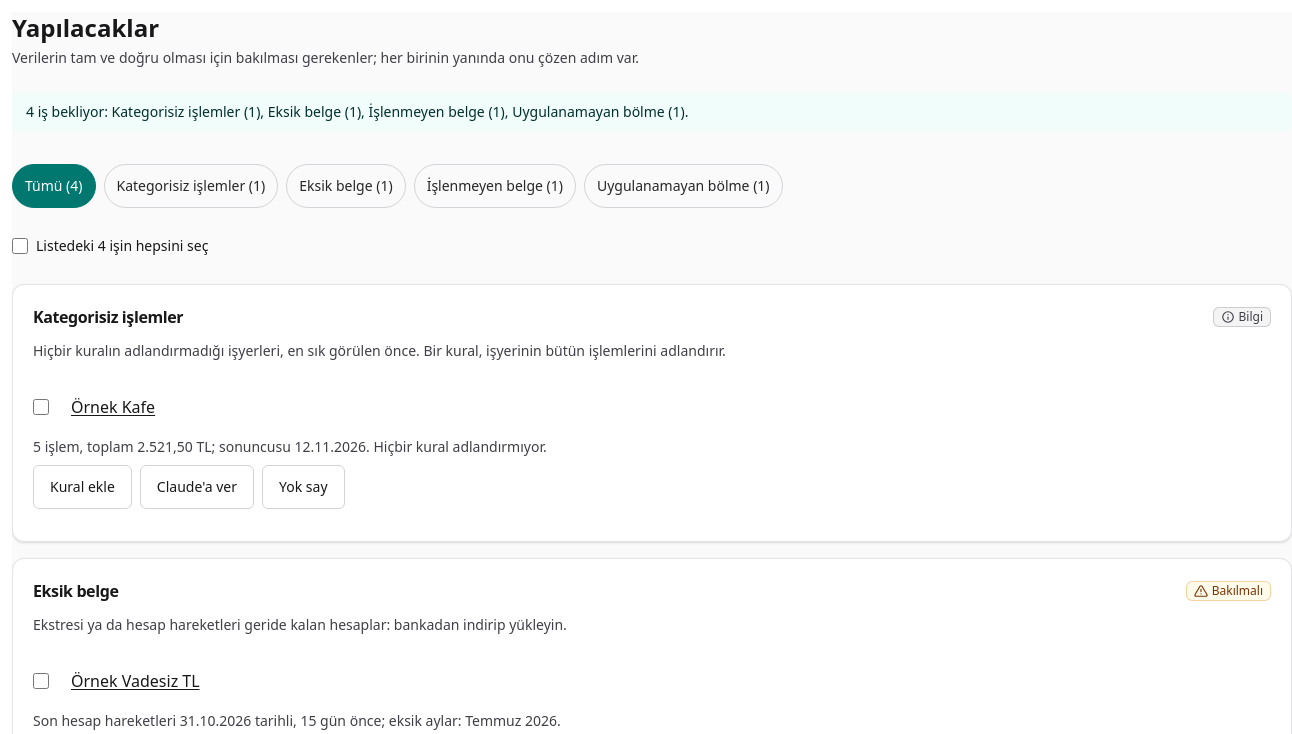
Test: TodoPage: the steps › takes an item off the list, says so, and puts it back on undo
Step 1. Click the button with aria-label "Yok say: Örnek Kafe" → [303, 487], box [262,465,344,509]
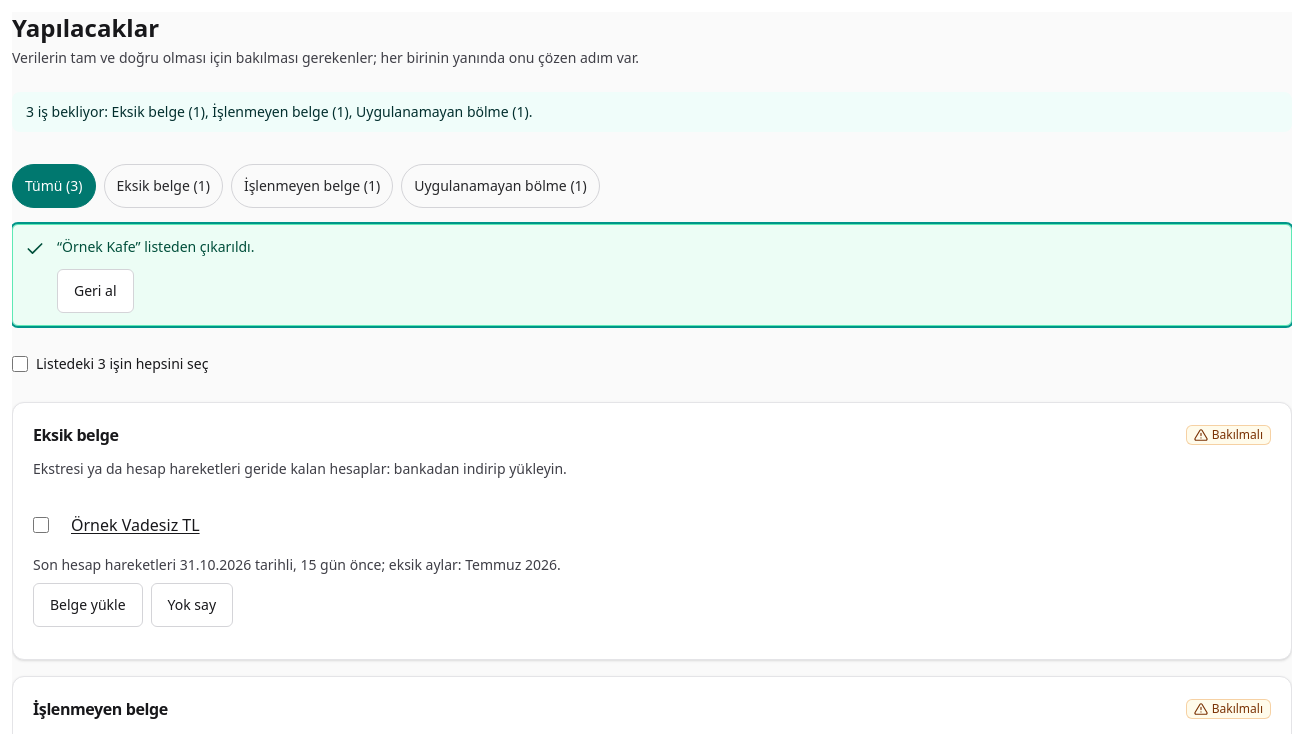
Expected: the text "Kategorisiz işlemler" is gone
Step 2. Click the button "Geri al" → [95, 291], box [57,269,134,313]
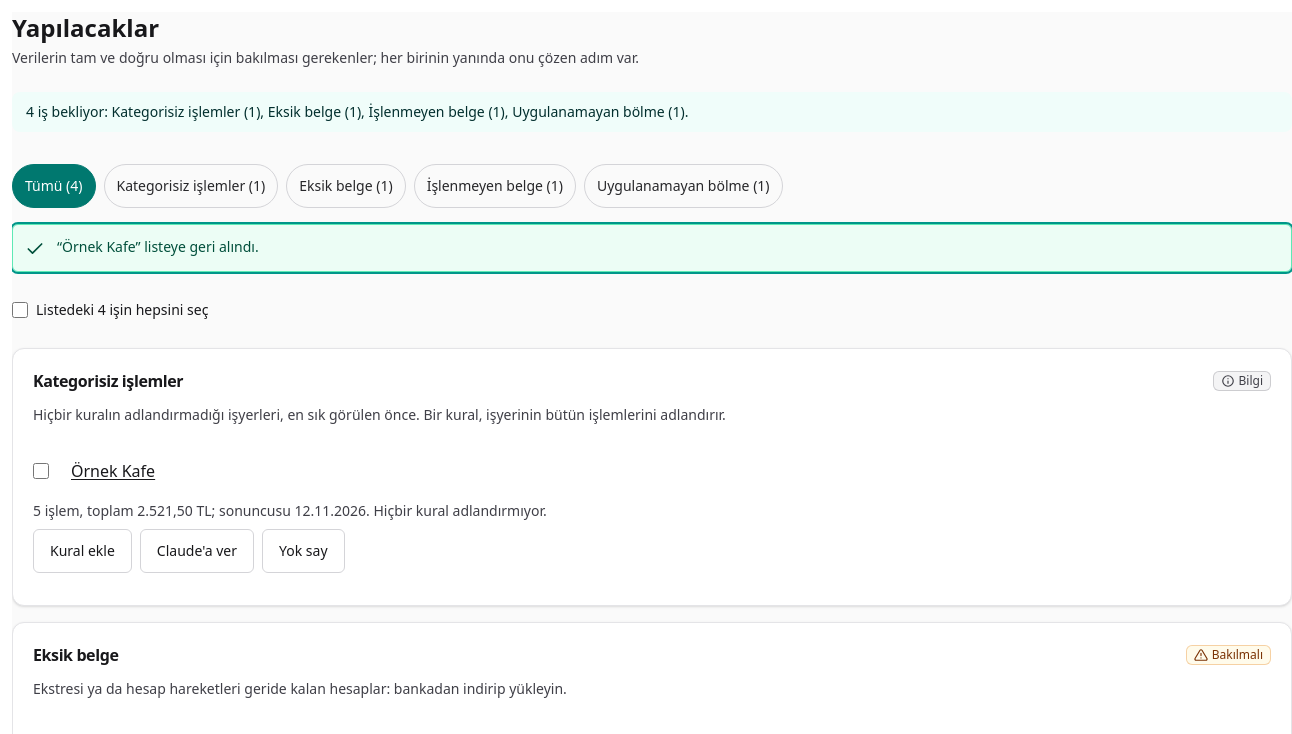
Expected: the text "“Örnek Kafe” listeye geri alındı." is shown, [57,237,259,257]
Expected: the element "Kategorisiz işlemler" is shown, [12,348,1291,606]
